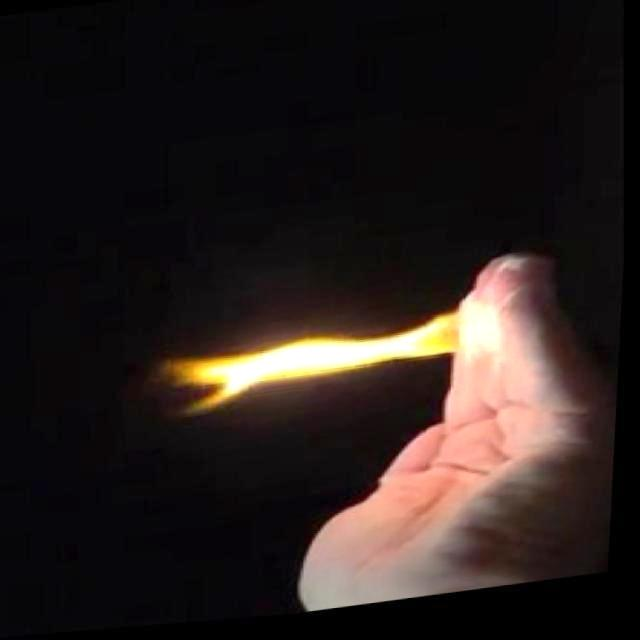fire: (130, 302, 522, 414)
